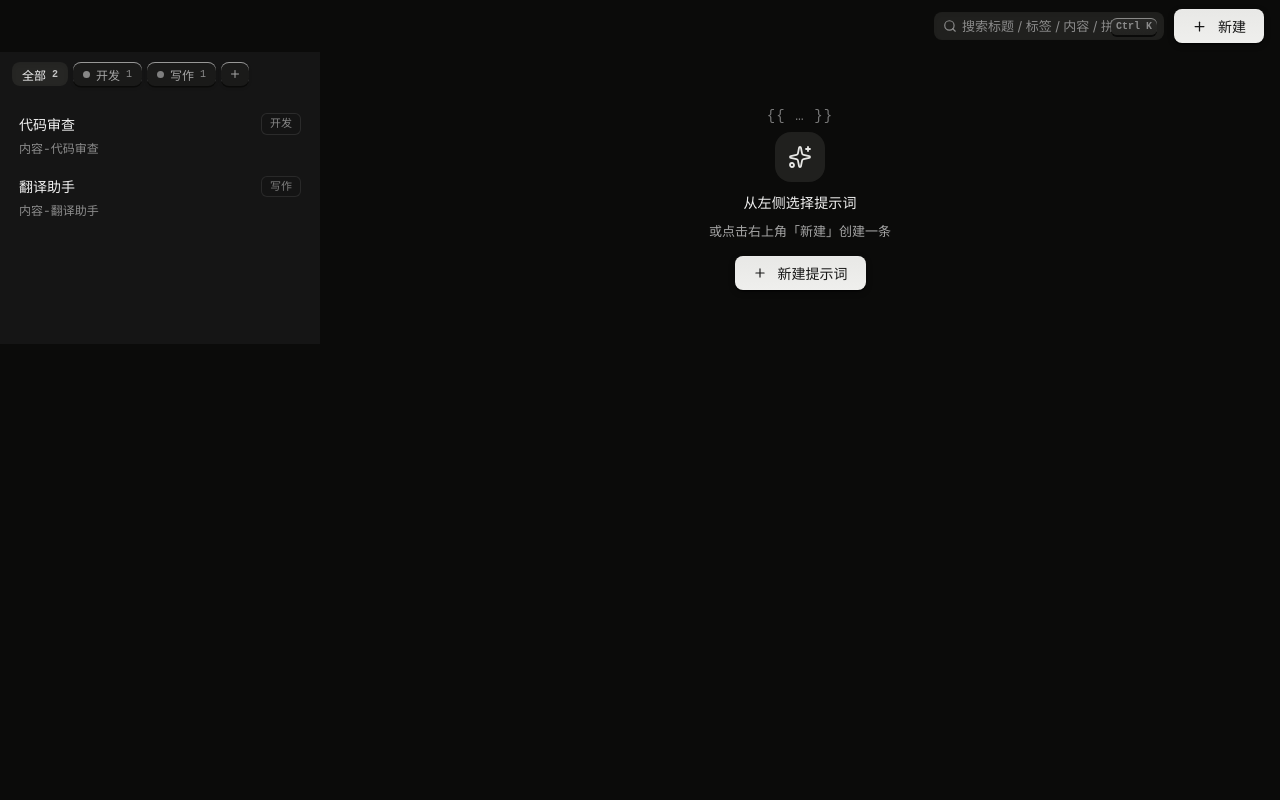
PromptsPane：提示词管理 › 点击列表项载入草稿并高亮
Click the element showing "代码审查 开发 内容-代码审查" at (47, 124), box [8,104,312,165]
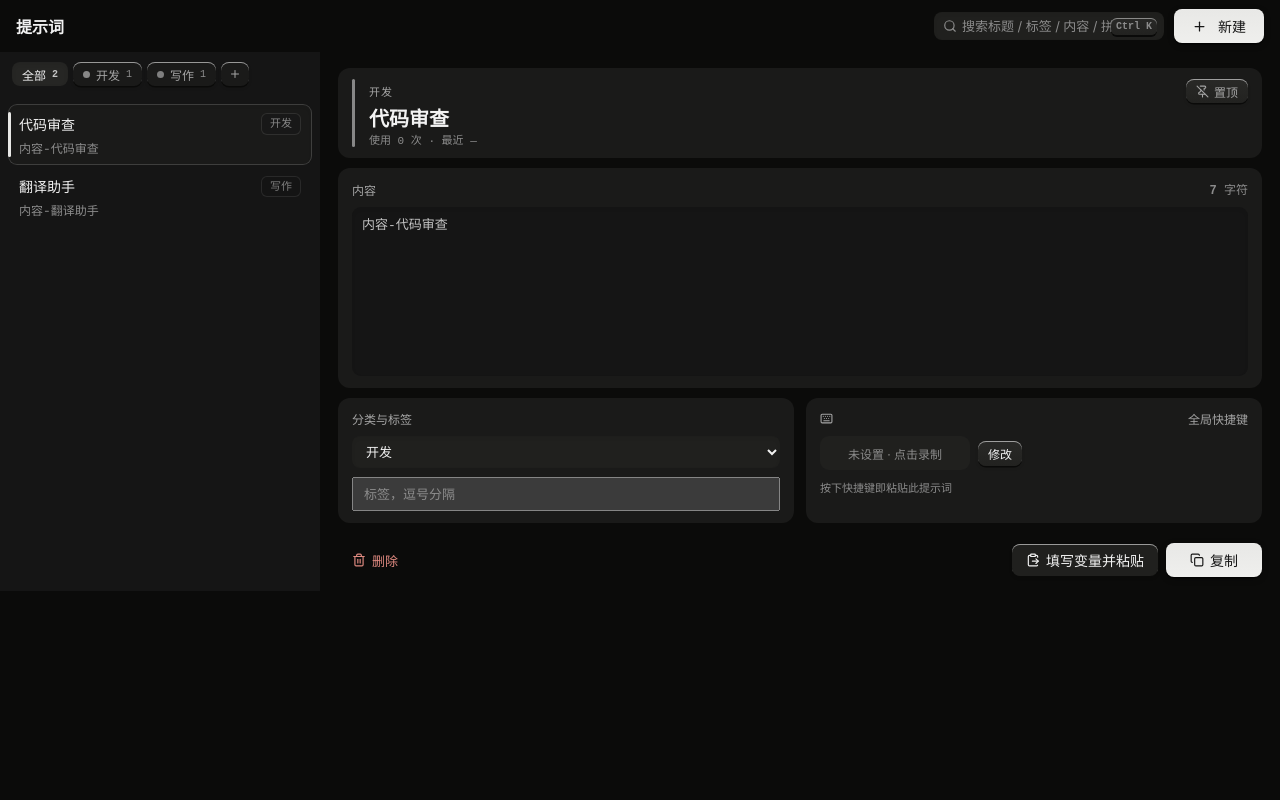
expect the element showing "代码审查 开发 内容-代码审查" is shown: met, box [8,104,312,165]
expect the field with class "d-title" holds "代码审查": met, box [369,103,672,129]
